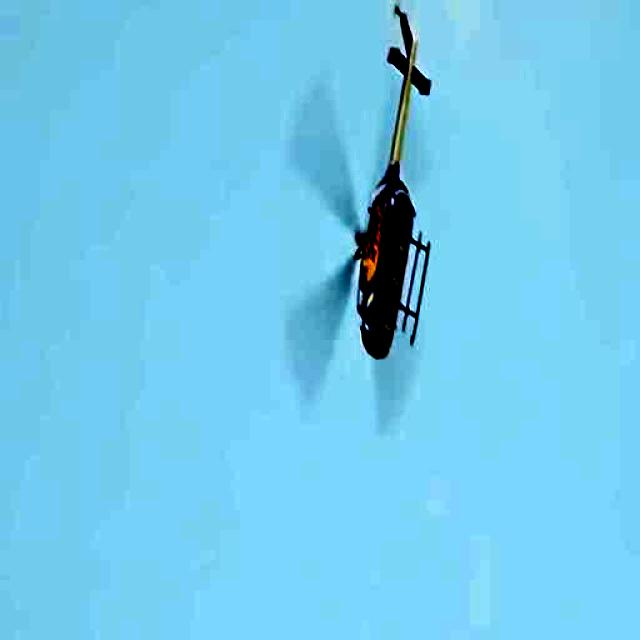drone: (335, 0, 444, 376)
